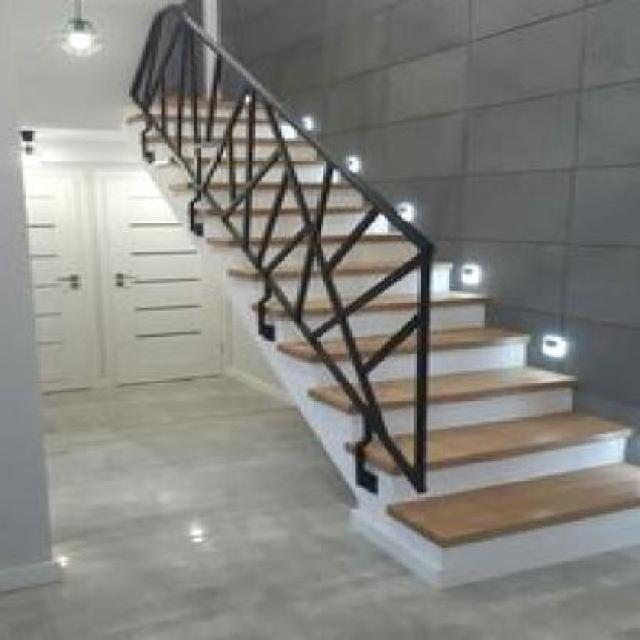stair: (94, 41, 637, 574)
